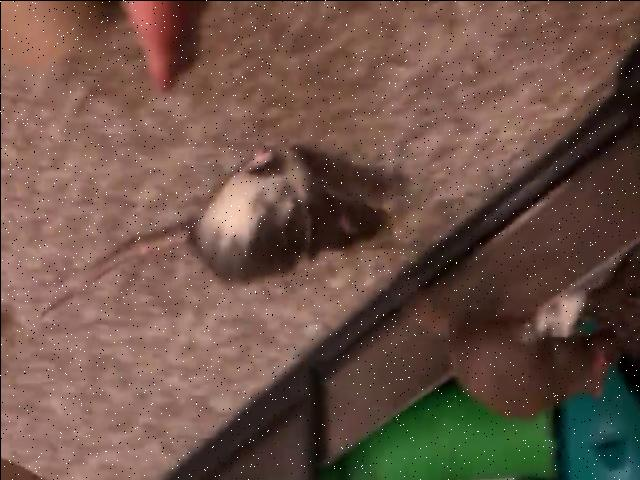Tikus: (109, 152, 387, 286), (450, 308, 616, 408)
